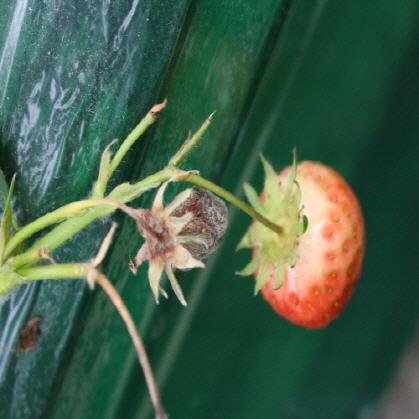Gray Mold: (123, 169, 230, 307)
